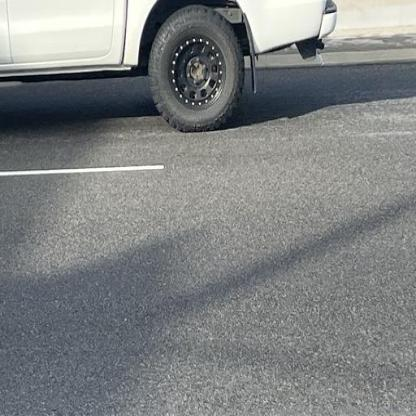Tire: (147, 6, 245, 134)
